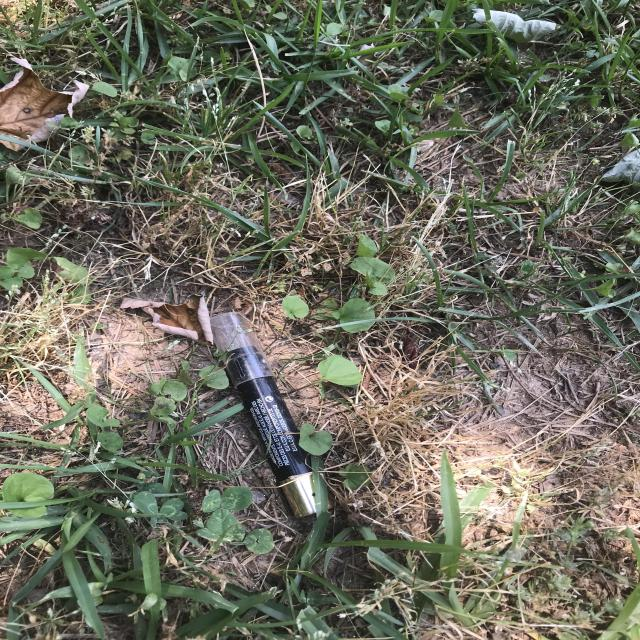litter: (175, 294, 375, 535)
